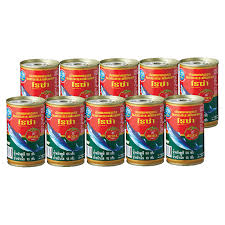can: (3, 57, 223, 167)
